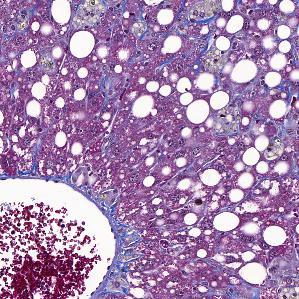fibrosis: (109, 195, 161, 283)
